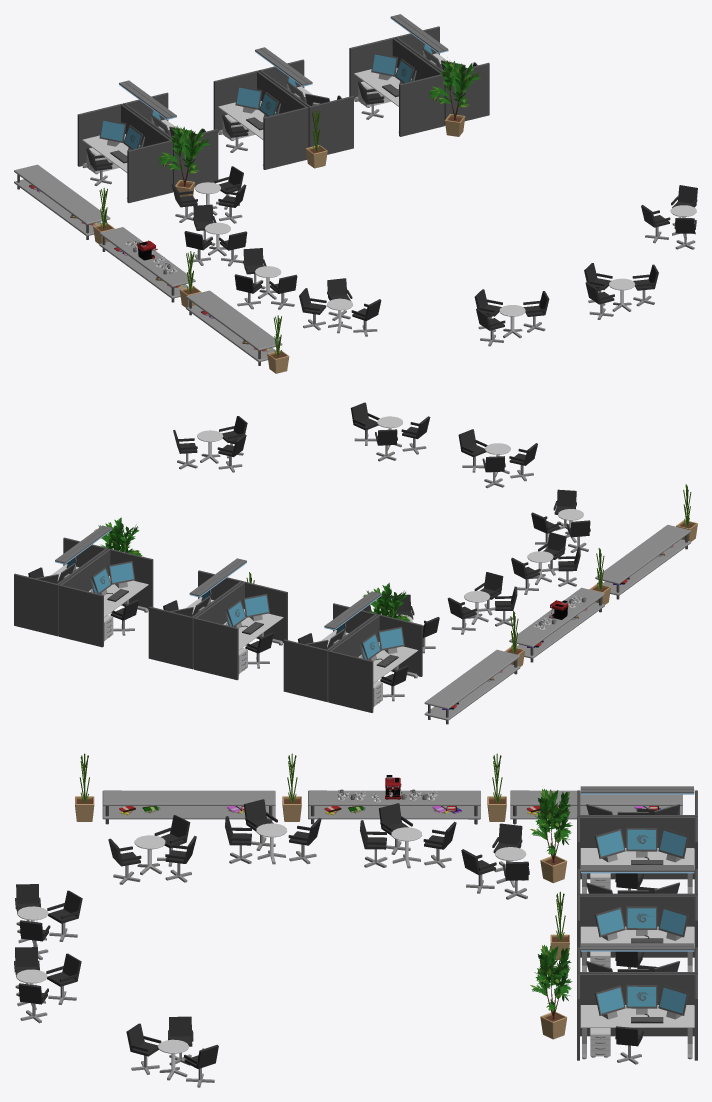
File: d-roomcomp-r6-itdepartment-in.glb
3 views of the same model, one above another, from view 1: azimuth 30°, elevation 25°; view 2: azimuth 150°, elevation 25°; view 3: azimuth 270°, elevation 25° (orthographic). The views are drawn at different scales.
Parts seen in each view (by area): view 1: desk.016, desk.014, desk.018, desk.017, desk.019, drawer-flat.007, desk.015, drawer-flat.009, drawer-flat.008, table_chair.015, table_chair.022, table_chair.011 (+9 smaller); view 2: desk.018, desk.014, desk.016, desk.017, desk.015, desk.019, drawer-flat.009, drawer-flat.007, drawer-flat.008, table_chair.022, table_chair.011, table_chair.013 (+7 smaller); view 3: desk.019, desk.017, desk.015, drawer-flat.007, drawer-flat.008, drawer-flat.009, table_chair.016, table_chair.011, table_chair.022, table_chair.015, table_chair.014, table_chair.013 (+11 smaller).
Boxes of the visible parts, x1,y1,x2,y2 form: desk.016: (213, 48, 308, 169); desk.014: (77, 81, 172, 202); desk.018: (349, 15, 444, 136); desk.017: (258, 47, 353, 154); desk.019: (394, 14, 489, 125); drawer-flat.007: (186, 290, 282, 365); desk.015: (123, 80, 218, 191); drawer-flat.009: (14, 164, 110, 239); drawer-flat.008: (99, 227, 195, 302); table_chair.015: (299, 278, 381, 336); table_chair.022: (234, 248, 297, 309); table_chair.011: (184, 204, 247, 266); desk.018: (58, 526, 153, 647); desk.014: (328, 592, 422, 712); desk.016: (193, 559, 287, 680); desk.017: (148, 558, 243, 669); desk.015: (283, 591, 377, 702); desk.019: (14, 525, 108, 636); drawer-flat.009: (424, 649, 520, 724); drawer-flat.007: (595, 525, 691, 599); drawer-flat.008: (509, 587, 604, 662); table_chair.022: (511, 532, 580, 594); table_chair.011: (447, 572, 517, 634); table_chair.013: (458, 429, 537, 488); desk.019: (577, 946, 697, 1064); desk.017: (577, 867, 697, 973); desk.015: (577, 789, 697, 894); drawer-flat.007: (102, 790, 275, 824); drawer-flat.008: (308, 790, 480, 824); drawer-flat.009: (510, 790, 682, 824); table_chair.016: (126, 1016, 218, 1087); table_chair.011: (360, 803, 456, 868); table_chair.022: (225, 799, 321, 864); table_chair.015: (108, 815, 196, 884); table_chair.014: (14, 947, 81, 1023); table_chair.013: (15, 884, 82, 959).
Bounding box in the file's own units: 21.25 × 3.17 × 22.09.
Materials: 4 (3 with a texture image).
